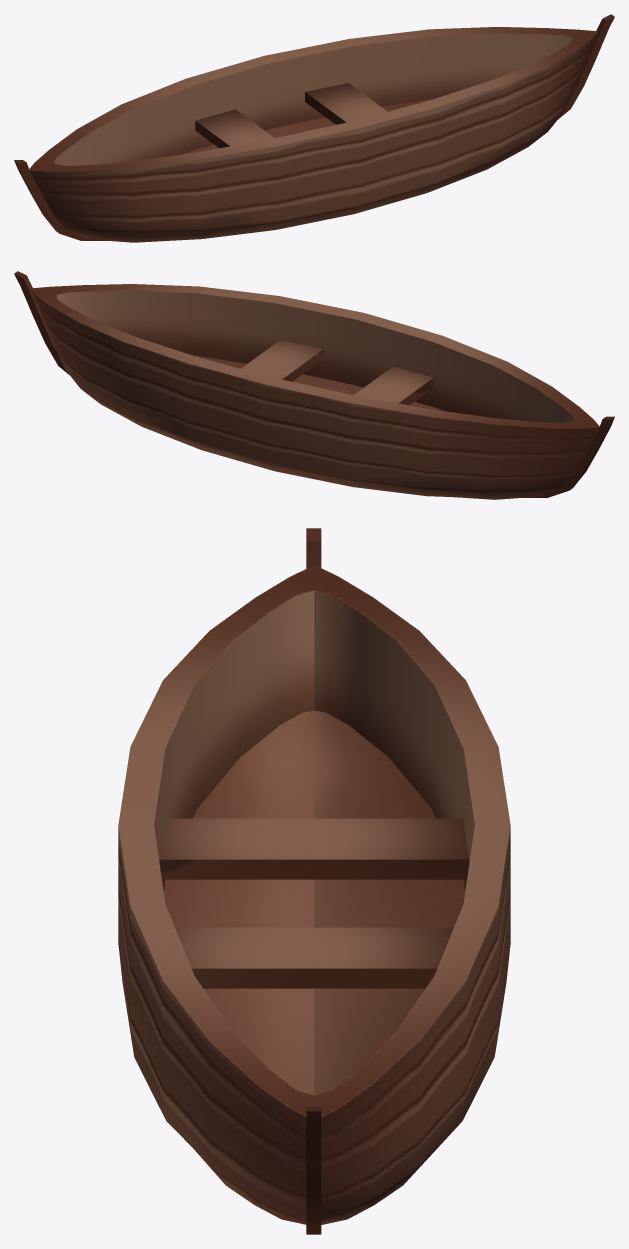
The model's file is Boat.fbx.
3 views of the same model, one above another, from view 1: azimuth 30°, elevation 25°; view 2: azimuth 150°, elevation 25°; view 3: azimuth 270°, elevation 25° (orthographic). The views are drawn at different scales.
Parts seen in each view (by area): view 1: Boat; view 2: Boat; view 3: Boat.
Part boxes in pixels (bbox=[...]): Boat: bbox=[14, 14, 614, 242]; Boat: bbox=[14, 271, 614, 499]; Boat: bbox=[118, 528, 510, 1234].
Size of the model in its own units: 681 by 123 by 194.
